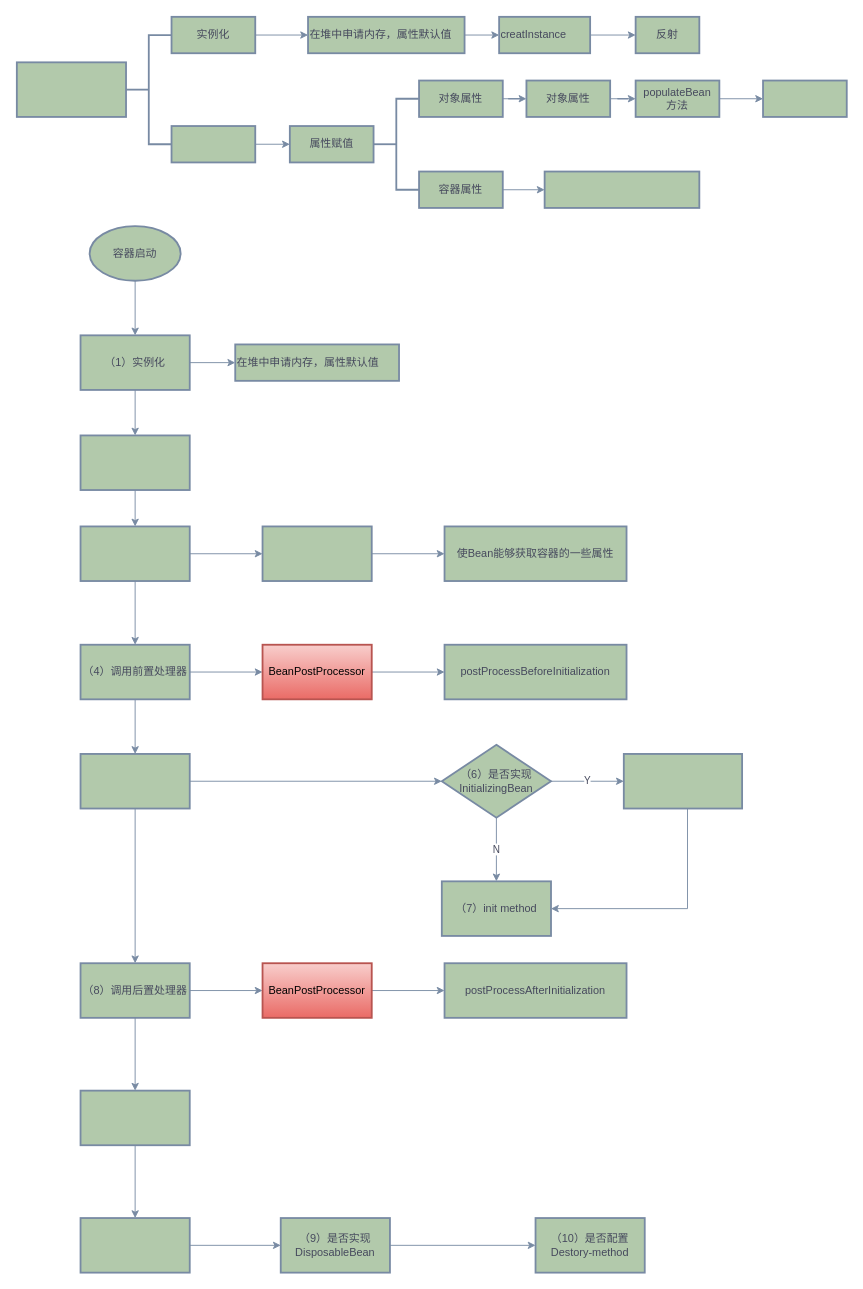
This 863x1289 diagram has some shape labels left out. Each missing label, with the centre of its shape:
"afterPropertiesSet方法" belongs at [682,781].
"Bean创建" belongs at [70,89].
"set方法" belongs at [804,98].
"使用" belongs at [134,1245].
"创建完成 放入IOC容器" belongs at [134,1117].
"初始化" belongs at [213,144].
"如：ApplicationContext" belongs at [621,189].
"实现Aware 接口" belongs at [316,553].
"（2）设置对象属性默认值" belongs at [134,462].
"（3）设置容器属性" belongs at [134,553].
"（5）调用初始化方法" belongs at [134,781].
